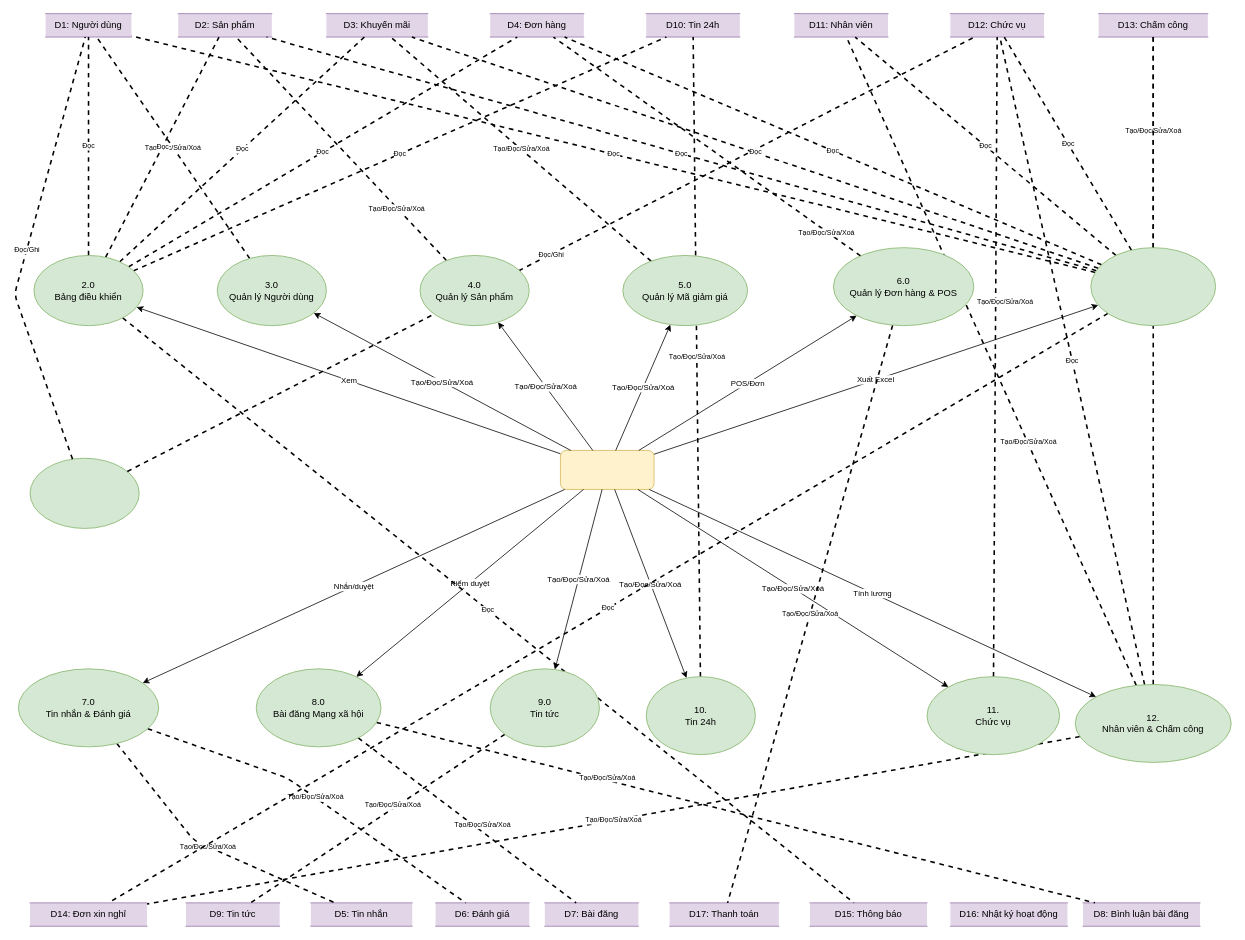
Image size: 1245x940. Some labels were removed from this diagram. The shapes that lost their labels are listed below. From the top down, each one's centre as x and y in pixels, then its label:
At (1153,286): "13. Xuất/Báo cáo".
At (607,469): "Admin".
At (84,492): "1.0 Xác thực & Phân quyền".
